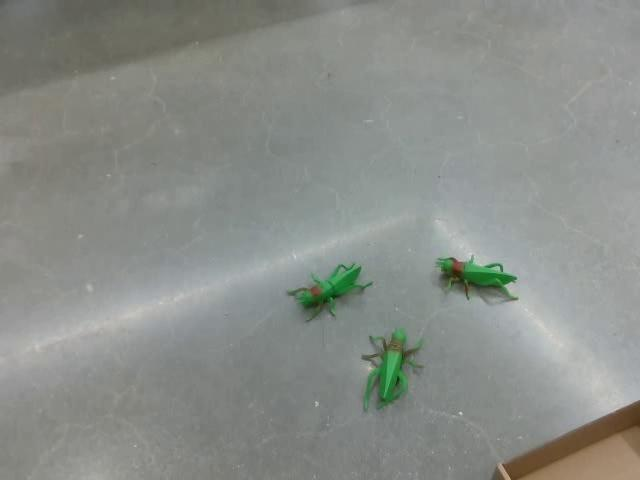box: (492, 399, 639, 479)
grasshopper: (360, 326, 424, 412), (286, 261, 373, 322), (435, 253, 518, 302)
